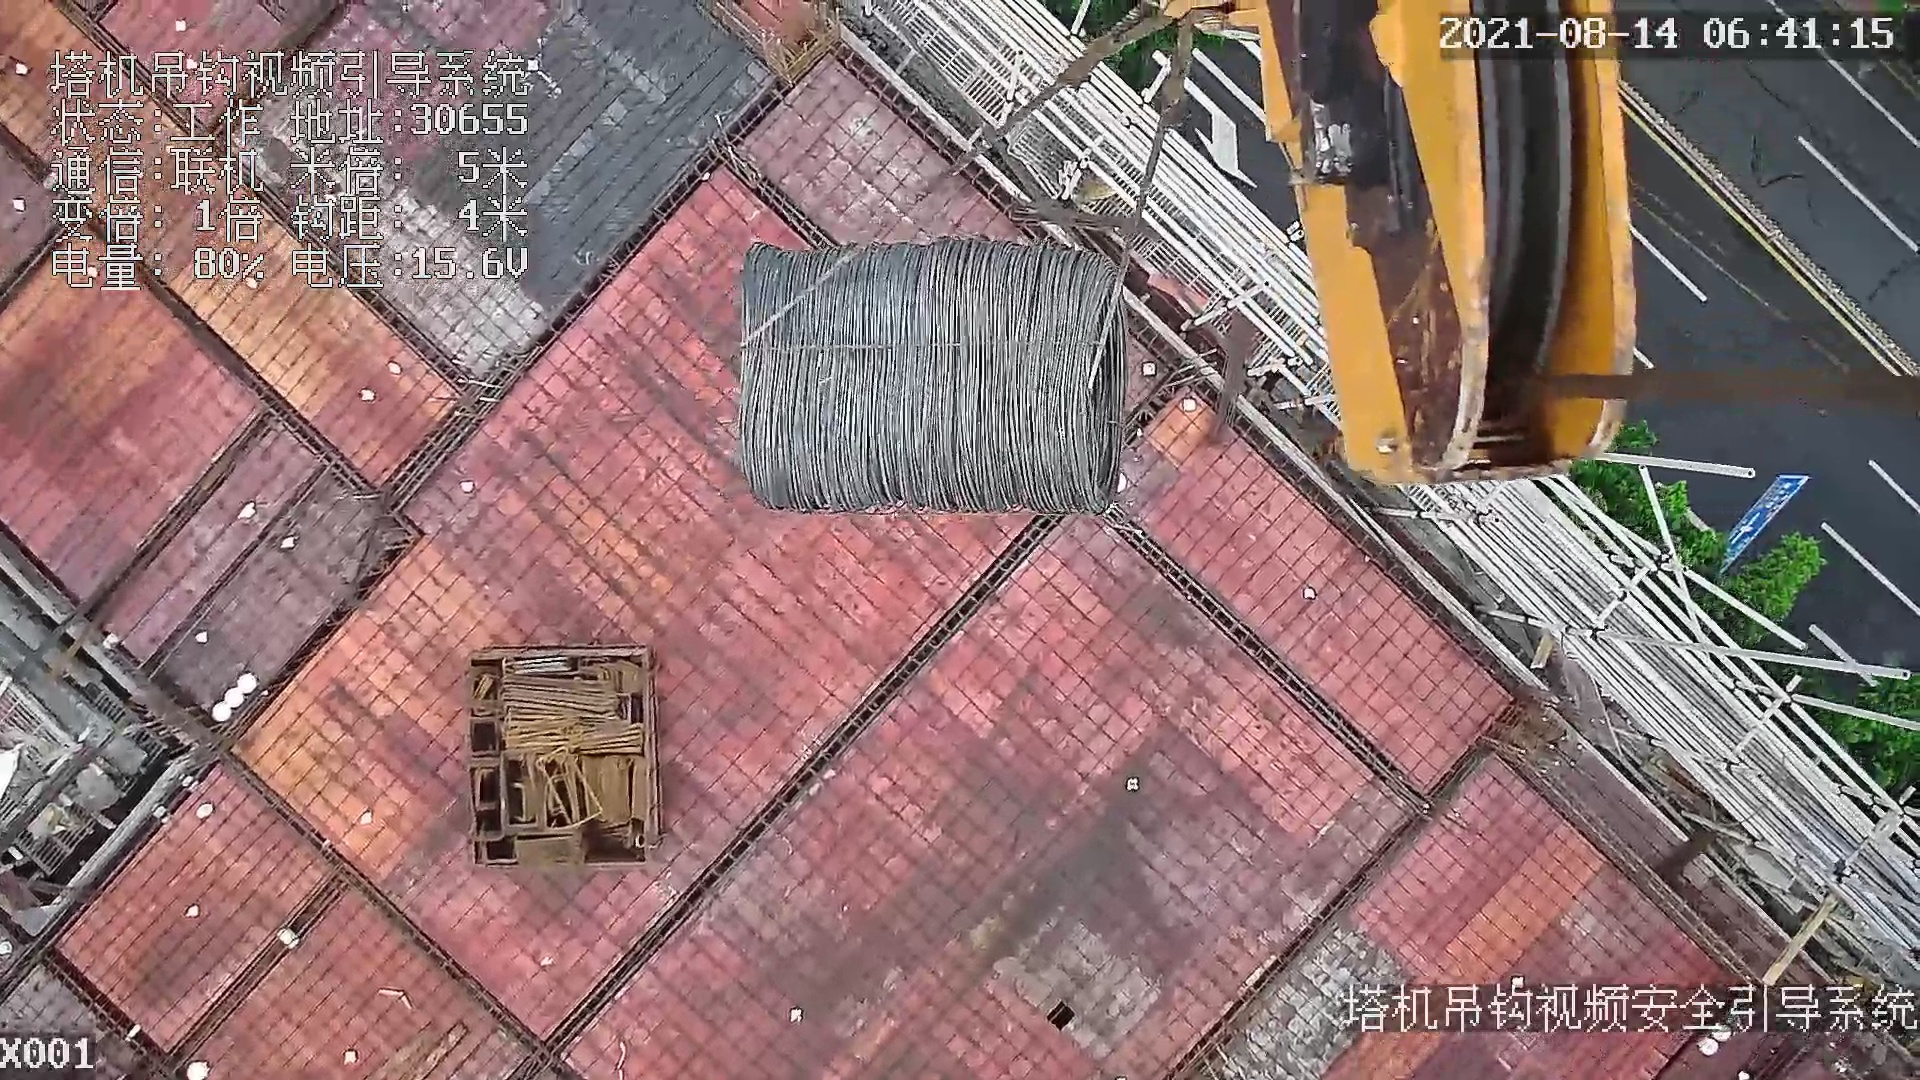hook: (1151, 1, 1659, 491)
